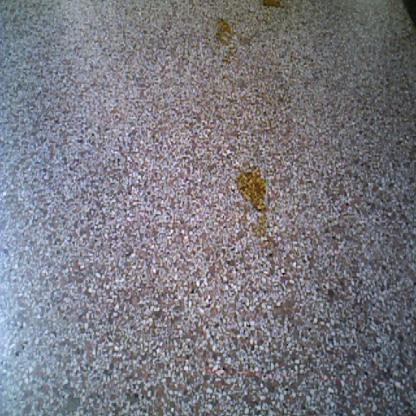liquid: (235, 169, 267, 213), (250, 214, 274, 249), (214, 18, 232, 44), (221, 45, 237, 65), (261, 1, 280, 9)
